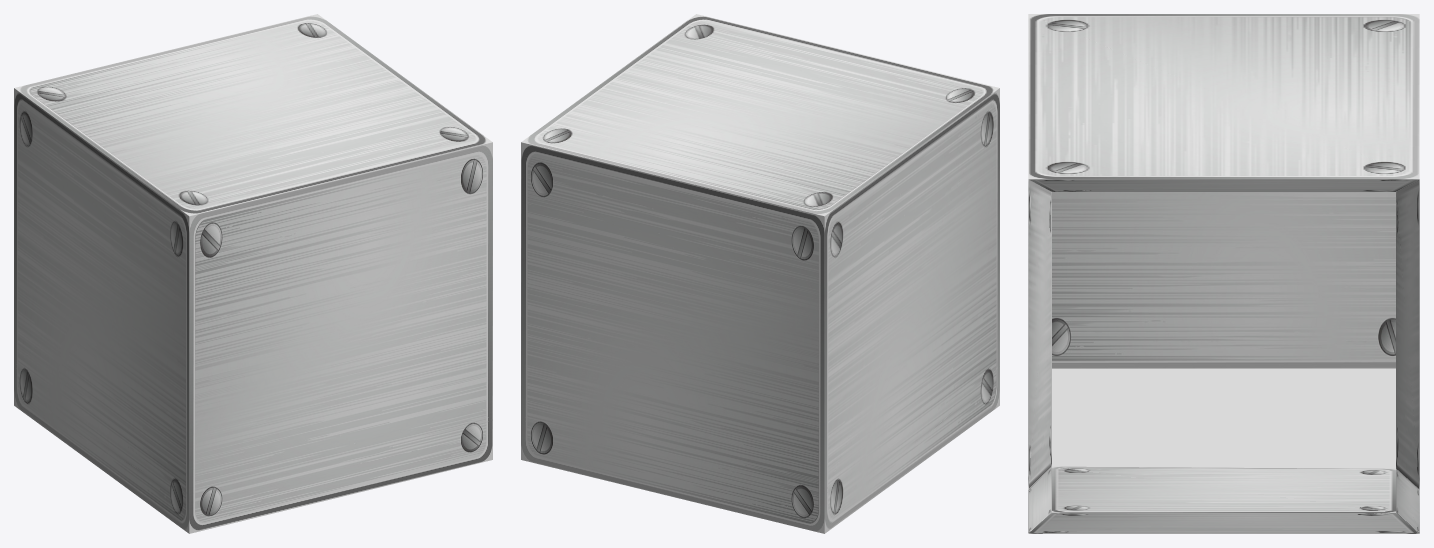
File: metal capsule 2.fbx
The picture shows the model from 3 angles, left to right: view 1: azimuth 30°, elevation 25°; view 2: azimuth 150°, elevation 25°; view 3: azimuth 270°, elevation 25°; orthographic projection. The views are drawn at different scales.
Parts seen in each view (by area): view 1: Cube.001; view 2: Cube.001; view 3: Cube.001.
Part boxes in pixels (<box>): Cube.001: <box>14,14,492,533</box>; Cube.001: <box>521,14,999,533</box>; Cube.001: <box>1028,14,1419,533</box>.
Bounding box in the file's own units: 200 × 200 × 200.
